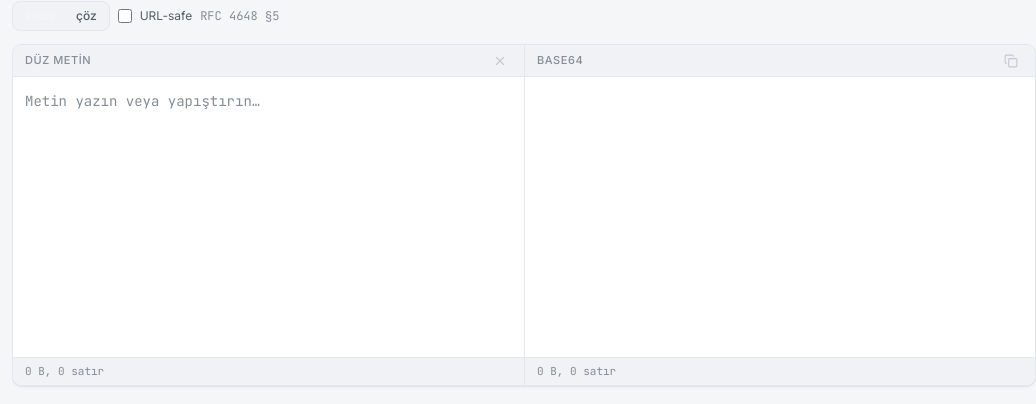
Test: Base64Tool › URL-safe kutusu standart alfabeyi §5 alfabesine çevirir
This screenshot has width=1036, height=404.
Step 1. Click the text box labelled "Düz metin" → (268, 217), box top-left (13, 77), bottom-right (524, 357)
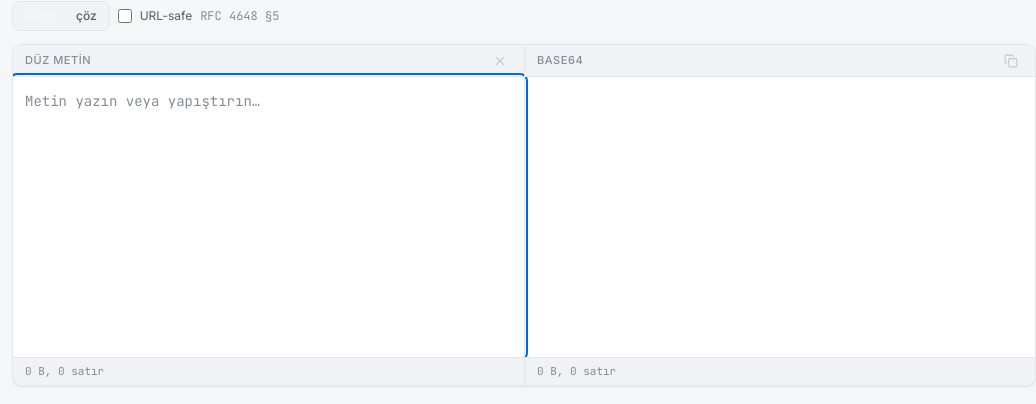
Step 2. Type keys ">>>?"
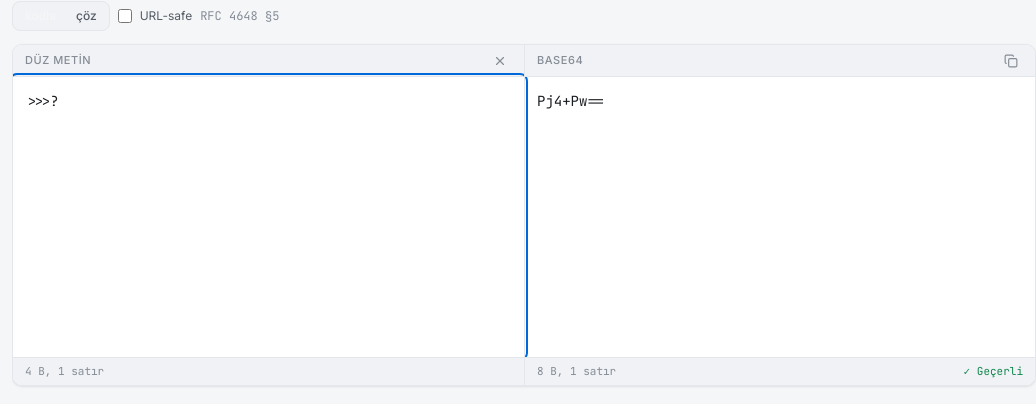
Result: the element named "Base64" reads "Pj4+Pw==" at top-left (537, 92), bottom-right (604, 110)
Step 3. Click the checkbox labelled "URL-safe RFC 4648 §5" → (125, 16), box top-left (118, 9), bottom-right (132, 23)
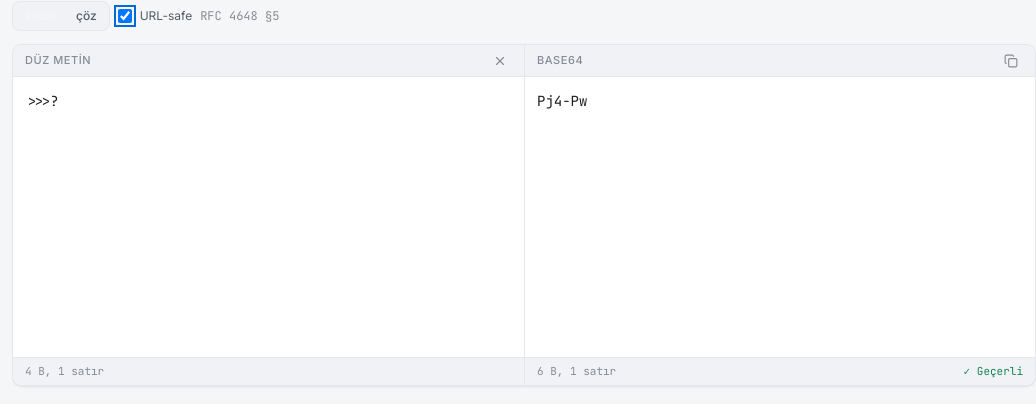
Result: the element named "Base64" reads "Pj4-Pw" at top-left (537, 92), bottom-right (587, 110)
Result: the element named "Base64" no longer shows "Pj4+Pw==" at top-left (537, 92), bottom-right (587, 110)
